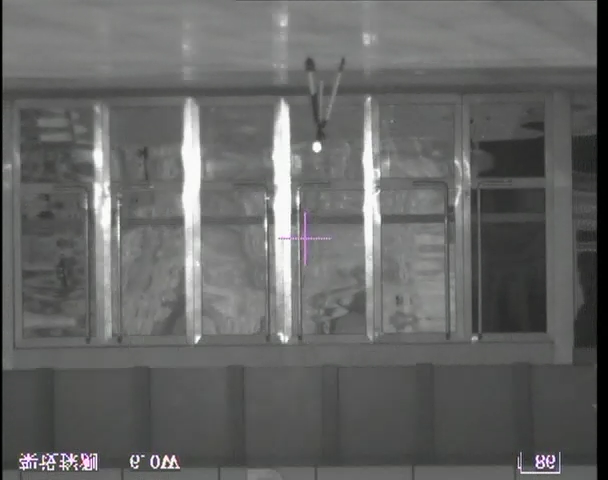my: (311, 140, 322, 153)
